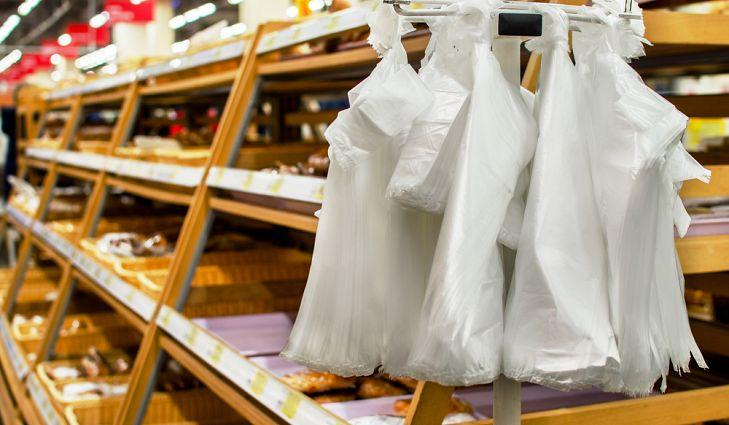LDPE: (388, 0, 537, 387), (279, 0, 430, 379), (571, 1, 708, 395), (503, 1, 619, 387)
